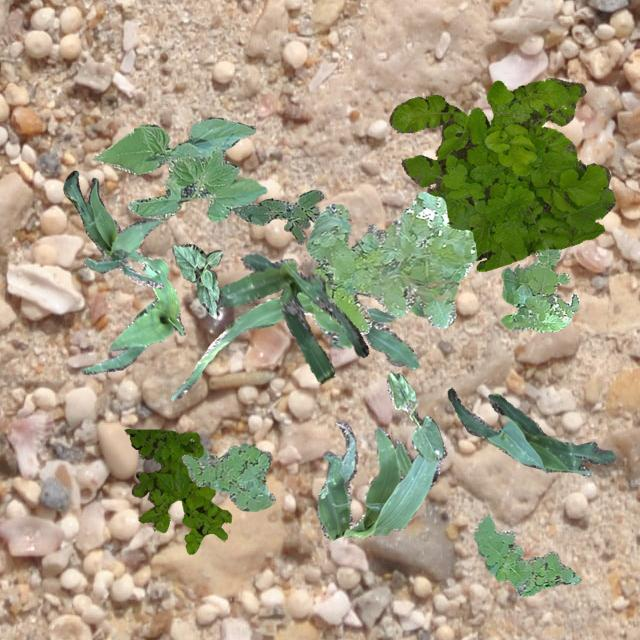crop: (170, 290, 418, 400), (218, 252, 368, 382), (90, 117, 266, 220), (316, 419, 442, 538), (446, 388, 614, 476), (80, 250, 184, 374), (62, 170, 162, 288), (365, 224, 425, 316), (386, 370, 446, 460), (170, 242, 222, 318)
weed: (388, 77, 614, 270), (306, 190, 476, 334), (124, 428, 230, 552), (472, 514, 580, 594), (499, 248, 578, 332), (180, 442, 274, 510), (234, 188, 322, 244)
